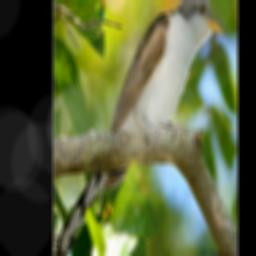Cuckoo: (53, 0, 230, 256)
